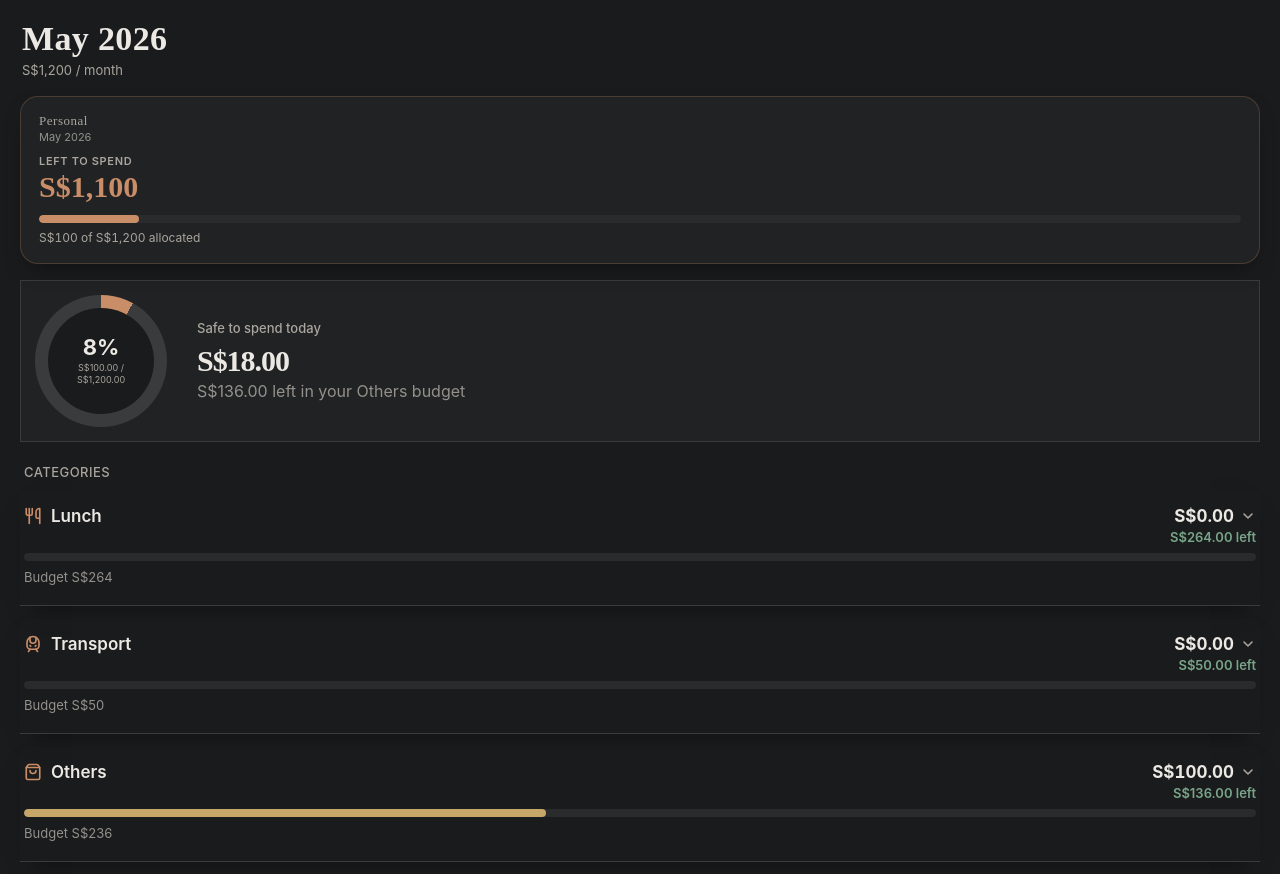
Dashboard category expense history › shows notes for others expenses
This screenshot has width=1280, height=874.
Click the button "Others S$100.00 S$136.00 left Budget S$236": point(79, 772) [20,746,1260,860]
(page scrolled)
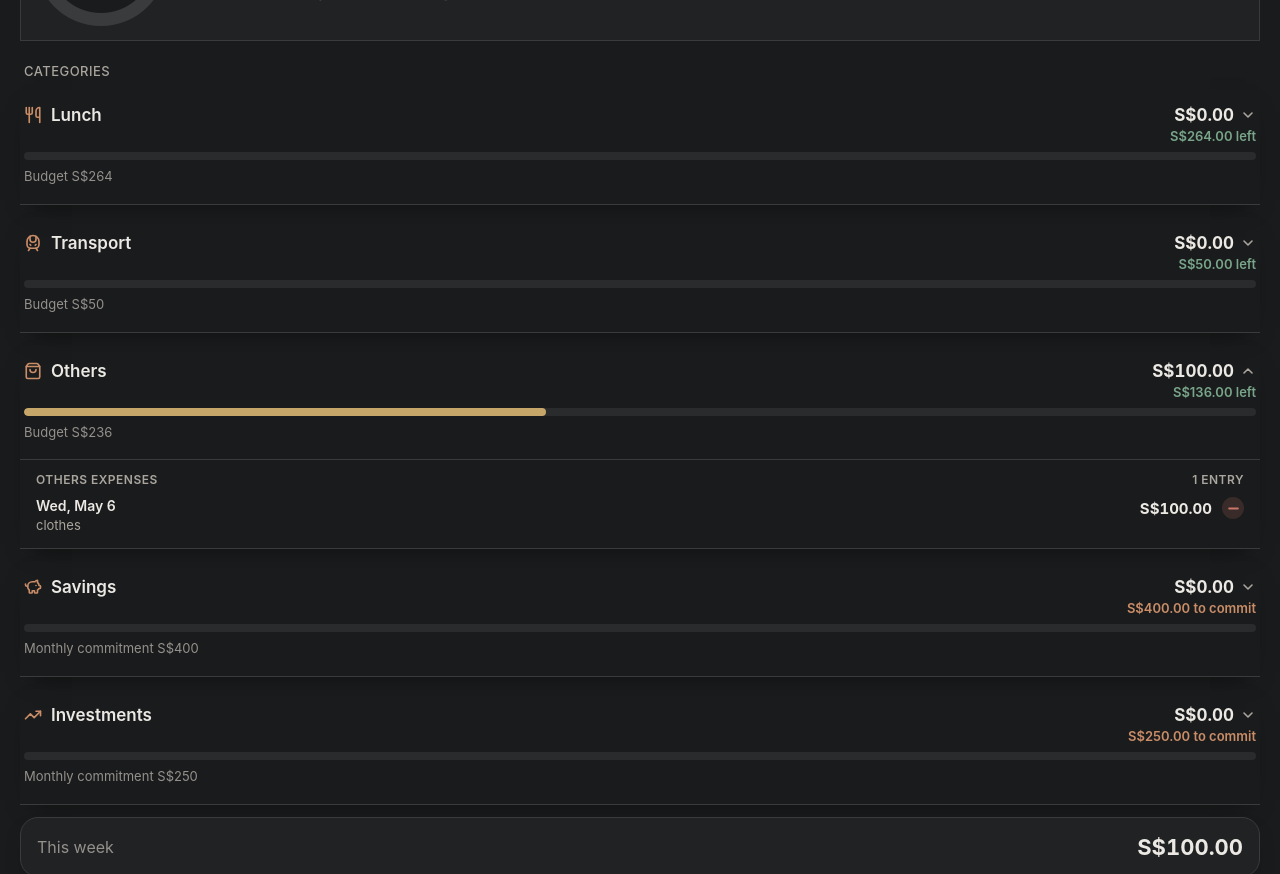
Expected: the element with id "category-expenses-others" shows "Others Expenses", [20,459,1260,548]
Expected: the element with id "category-expenses-others" shows "clothes", [36,517,81,533]
Expected: the element with id "category-expenses-others" shows "S$100.00", [1140,499,1212,518]
